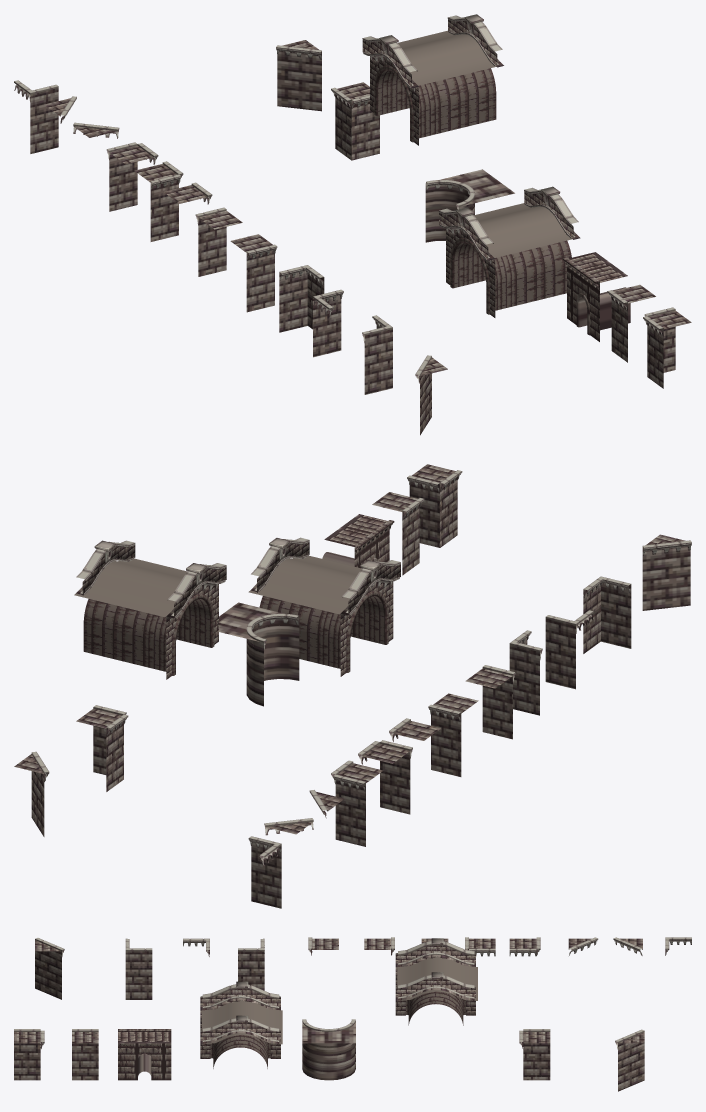
The model's file is EnvMdrMD_City_A_GrdWall_A_BK.FBX.
3 renders of one model, top to bottom at view 1: azimuth 30°, elevation 25°; view 2: azimuth 150°, elevation 25°; view 3: azimuth 270°, elevation 25°, orthographic. The views are drawn at different scales.
Visible parts, largest first — view 1: EnvMdrMD_City_A_GrdWall_A_Bridge_B, EnvMdrMD_City_A_GrdWall_A_Bridge_A, EnvMdrMD_City_A_GrdWall_A_Entrance_A, EnvMdrMD_City_A_GrdWall_A_HalfCircle_FR, EnvMdrMD_City_A_GrdWall_A_CoOut_RF, EnvMdrMD_City_A_GrdWall_A_SL_RF, EnvMdrMD_City_A_GrdWall_A_CoIn_LB, EnvMdrMD_City_A_GrdWall_A_RS, EnvMdrMD_City_A_GrdWall_A_CoOut_RB, EnvMdrMD_City_A_GrdWall_A_CoOut_LF, EnvMdrMD_City_A_GrdWall_A_CoOut_LB, EnvMdrMD_City_A_GrdWall_A_LS (+5 smaller); view 2: EnvMdrMD_City_A_GrdWall_A_Bridge_B, EnvMdrMD_City_A_GrdWall_A_Bridge_A, EnvMdrMD_City_A_GrdWall_A_HalfCircle_FR, EnvMdrMD_City_A_GrdWall_A_SL_LF, EnvMdrMD_City_A_GrdWall_A_CoOut_LF, EnvMdrMD_City_A_GrdWall_A_CoIn_RB, EnvMdrMD_City_A_GrdWall_A_CoOut_LB, EnvMdrMD_City_A_GrdWall_A_LS, EnvMdrMD_City_A_GrdWall_A_CoOut_RF, EnvMdrMD_City_A_GrdWall_A_CoOut_RB, EnvMdrMD_City_A_GrdWall_A_Entrance_A, EnvMdrMD_City_A_GrdWall_A_CoIn_LF (+6 smaller); view 3: EnvMdrMD_City_A_GrdWall_A_Bridge_B, EnvMdrMD_City_A_GrdWall_A_Bridge_A, EnvMdrMD_City_A_GrdWall_A_HalfCircle_FR, EnvMdrMD_City_A_GrdWall_A_Entrance_A, EnvMdrMD_City_A_GrdWall_A_CoOut_RF, EnvMdrMD_City_A_GrdWall_A_CoIn_RB, EnvMdrMD_City_A_GrdWall_A_CoOut_LF, EnvMdrMD_City_A_GrdWall_A_SL_RF, EnvMdrMD_City_A_GrdWall_A_SL_LF, EnvMdrMD_City_A_GrdWall_A_FR, EnvMdrMD_City_A_GrdWall_A_CoIn_LB, EnvMdrMD_City_A_GrdWall_A_CoOut_LB (+5 smaller).
Part boxes in pixels (x1=…): EnvMdrMD_City_A_GrdWall_A_Bridge_B: x1=362, y1=14, x2=503, y2=145; EnvMdrMD_City_A_GrdWall_A_Bridge_A: x1=438, y1=186, x2=580, y2=317; EnvMdrMD_City_A_GrdWall_A_Entrance_A: x1=563, y1=252, x2=630, y2=341; EnvMdrMD_City_A_GrdWall_A_HalfCircle_FR: x1=425, y1=169, x2=514, y2=242; EnvMdrMD_City_A_GrdWall_A_CoOut_RF: x1=331, y1=82, x2=379, y2=160; EnvMdrMD_City_A_GrdWall_A_SL_RF: x1=276, y1=40, x2=321, y2=111; EnvMdrMD_City_A_GrdWall_A_CoIn_LB: x1=279, y1=265, x2=324, y2=332; EnvMdrMD_City_A_GrdWall_A_RS: x1=230, y1=234, x2=277, y2=312; EnvMdrMD_City_A_GrdWall_A_CoOut_RB: x1=134, y1=161, x2=183, y2=241; EnvMdrMD_City_A_GrdWall_A_CoOut_LF: x1=643, y1=307, x2=691, y2=388; EnvMdrMD_City_A_GrdWall_A_CoOut_LB: x1=106, y1=142, x2=158, y2=211; EnvMdrMD_City_A_GrdWall_A_LS: x1=195, y1=207, x2=242, y2=276; EnvMdrMD_City_A_GrdWall_A_Bridge_B: x1=74, y1=540, x2=226, y2=679; EnvMdrMD_City_A_GrdWall_A_Bridge_A: x1=248, y1=537, x2=400, y2=676; EnvMdrMD_City_A_GrdWall_A_HalfCircle_FR: x1=219, y1=602, x2=299, y2=706; EnvMdrMD_City_A_GrdWall_A_SL_LF: x1=642, y1=534, x2=691, y2=610; EnvMdrMD_City_A_GrdWall_A_CoOut_LF: x1=407, y1=464, x2=462, y2=547; EnvMdrMD_City_A_GrdWall_A_CoIn_RB: x1=583, y1=576, x2=631, y2=653; EnvMdrMD_City_A_GrdWall_A_CoOut_LB: x1=331, y1=760, x2=383, y2=846; EnvMdrMD_City_A_GrdWall_A_LS: x1=428, y1=693, x2=478, y2=776; EnvMdrMD_City_A_GrdWall_A_CoOut_RF: x1=76, y1=705, x2=128, y2=791; EnvMdrMD_City_A_GrdWall_A_CoOut_RB: x1=358, y1=740, x2=412, y2=814; EnvMdrMD_City_A_GrdWall_A_Entrance_A: x1=322, y1=514, x2=394, y2=568; EnvMdrMD_City_A_GrdWall_A_CoIn_LF: x1=545, y1=610, x2=593, y2=689; EnvMdrMD_City_A_GrdWall_A_Bridge_B: x1=395, y1=938, x2=477, y2=1025; EnvMdrMD_City_A_GrdWall_A_Bridge_A: x1=200, y1=981, x2=282, y2=1068; EnvMdrMD_City_A_GrdWall_A_HalfCircle_FR: x1=302, y1=1019, x2=355, y2=1080; EnvMdrMD_City_A_GrdWall_A_Entrance_A: x1=118, y1=1029, x2=171, y2=1080; EnvMdrMD_City_A_GrdWall_A_CoOut_RF: x1=519, y1=1029, x2=550, y2=1080; EnvMdrMD_City_A_GrdWall_A_CoIn_RB: x1=125, y1=938, x2=152, y2=999; EnvMdrMD_City_A_GrdWall_A_CoOut_LF: x1=14, y1=1029, x2=44, y2=1080; EnvMdrMD_City_A_GrdWall_A_SL_RF: x1=615, y1=1029, x2=644, y2=1091; EnvMdrMD_City_A_GrdWall_A_SL_LF: x1=35, y1=938, x2=64, y2=999; EnvMdrMD_City_A_GrdWall_A_FR: x1=72, y1=1029, x2=98, y2=1080; EnvMdrMD_City_A_GrdWall_A_CoIn_LB: x1=238, y1=938, x2=264, y2=990; EnvMdrMD_City_A_GrdWall_A_CoOut_LB: x1=509, y1=937, x2=540, y2=956.
Bounding box in the file's own units: 2186 × 1101 × 5062.
Materials: 2 (2 with a texture image).
